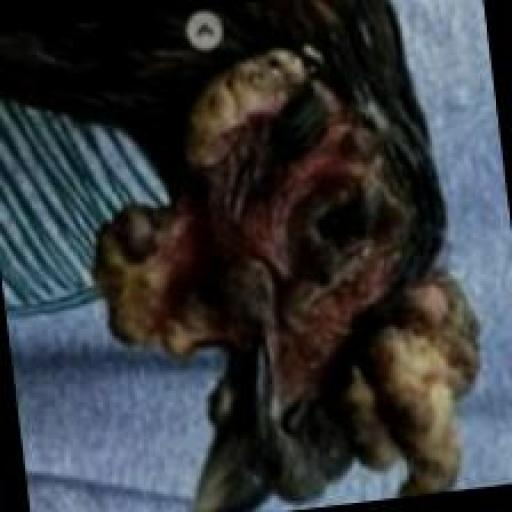disease: (84, 45, 497, 510)
